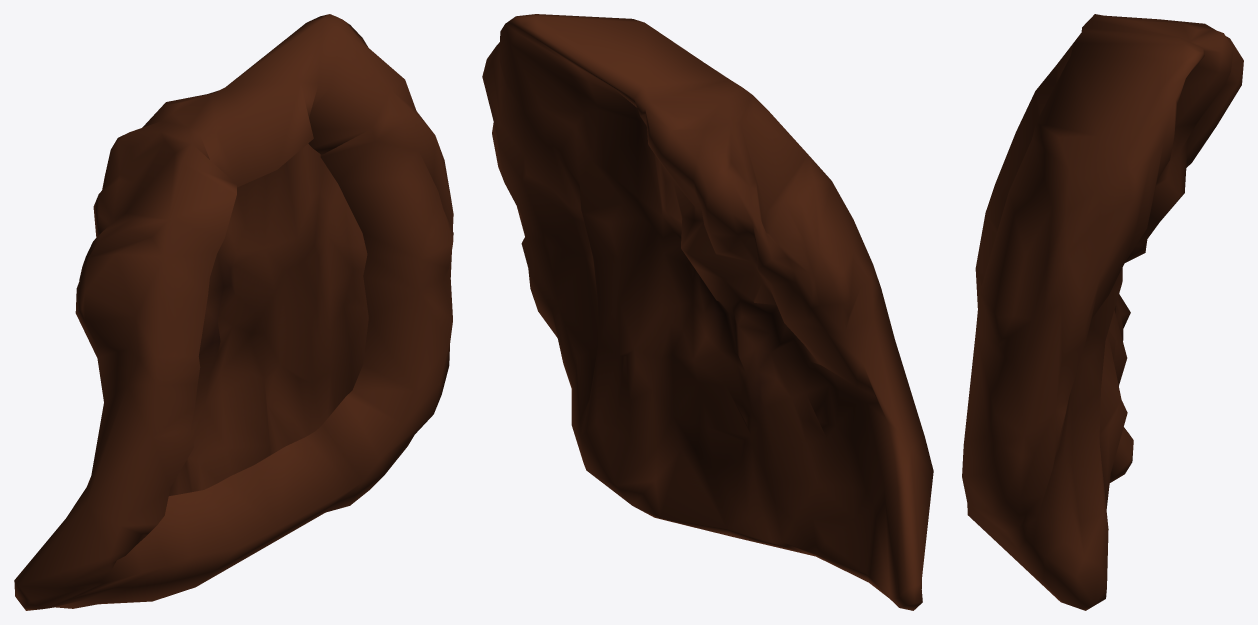
The model's file is env_digsiterock_wall01_lod1.fbx.
The picture shows the model from 3 angles, left to right: view 1: azimuth 30°, elevation 25°; view 2: azimuth 150°, elevation 25°; view 3: azimuth 270°, elevation 25°; orthographic projection. The views are drawn at different scales.
Visible parts, largest first — view 1: env_digsiterock_wall01.001; view 2: env_digsiterock_wall01.001; view 3: env_digsiterock_wall01.001.
Part boxes in pixels (bbox=[...]): env_digsiterock_wall01.001: bbox=[14, 14, 453, 610]; env_digsiterock_wall01.001: bbox=[482, 14, 933, 610]; env_digsiterock_wall01.001: bbox=[962, 14, 1243, 610].
Bounding box in the file's own units: 343 × 392 × 159.
